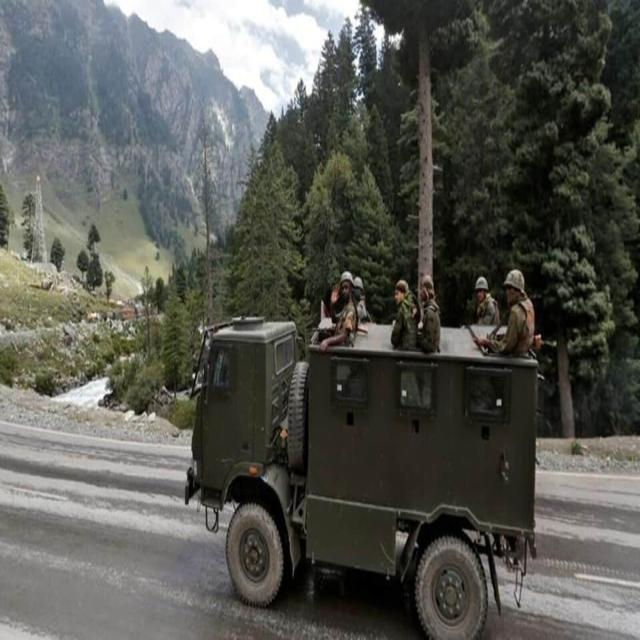truck: (184, 318, 538, 638)
